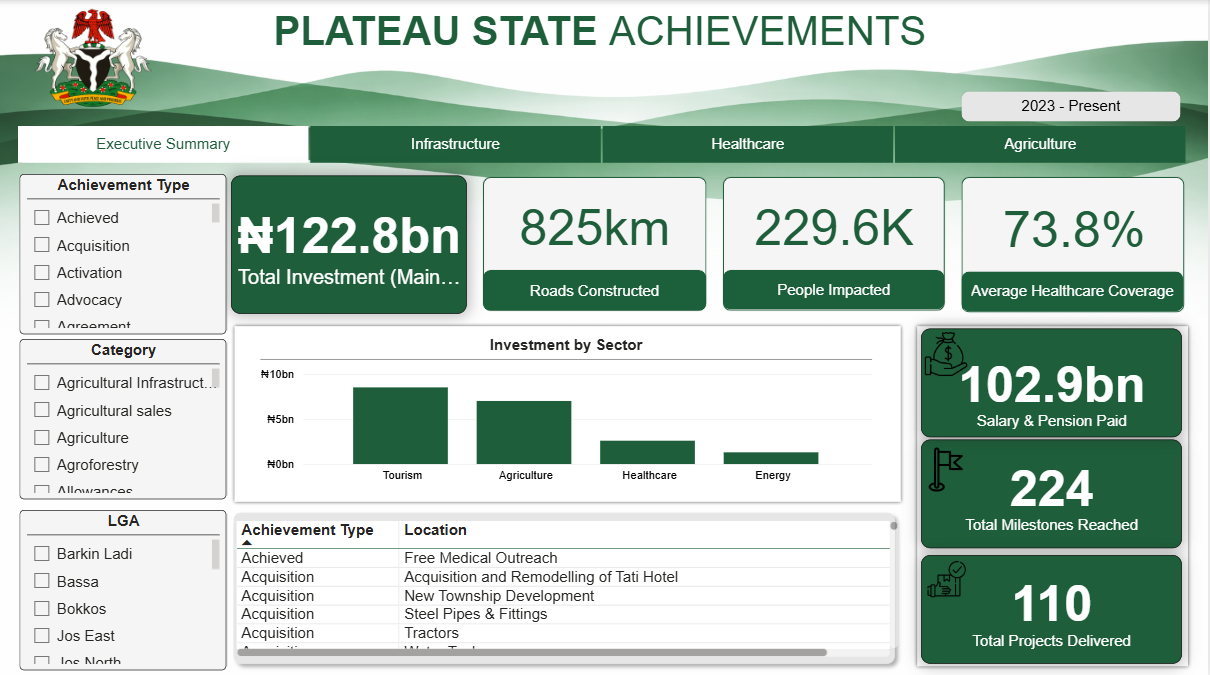

The dashboard page shown, as its layout file describes it:
{"tool":"powerbi","page":{"name":"Executive Summary","canvas":[1280,720],"ordinal":0},"visuals":[{"type":"textbox","box":[211.6,3.2,849.4,62],"z":0},{"type":"image","box":[0,0,197.2,130.4],"z":1000},{"type":"pageNavigator","box":[19.1,133.6,1239.1,39.8],"z":2000},{"type":"slicer","title":"Category","fields":{"Values":["KPI_Main_Dataset.Category"]},"box":[20.7,359.5,219.5,170.2],"z":3000},{"type":"group","id":"g1","title":"Group 2","box":[968.3,341.7,295,368.3],"z":4000},{"type":"group","id":"g2","title":"Group 1","box":[765,185,238.3,146.7],"z":5000},{"type":"textbox","box":[245,186.8,250,146.6],"z":5000,"group":"g4"},{"type":"card","fields":{"Values":["00_Measures.Total Investment"]},"box":[245,185,250,146.6],"z":6000,"group":"g4"},{"type":"group","id":"g3","title":"Group 3","box":[510,185,240,146.7],"z":6000},{"type":"group","id":"g4","title":"Group 4","box":[245,185,250,146.7],"z":7000},{"type":"shape","box":[510,186.8,240,144.9],"z":7000,"group":"g3"},{"type":"textbox","box":[976.7,348.3,276.7,115.3],"z":7000,"group":"g7"},{"type":"textbox","box":[976.7,466.4,276.7,115.3],"z":7000,"group":"g6"},{"type":"textbox","box":[976.7,588.1,276.7,115.3],"z":7000,"group":"g8"},{"type":"group","id":"g5","title":"Group 5","box":[1018.3,186.7,240,146.7],"z":8000},{"type":"shape","box":[765,186.8,238.3,144.9],"z":8000,"group":"g2"},{"type":"shape","box":[1018.3,186.7,239.3,146.7],"z":9000,"group":"g5"},{"type":"group","id":"g6","title":"Group 6","box":[976.7,465,276.7,116.7],"z":9000},{"type":"card","fields":{"Values":["00_Measures.Total Km (Display)"]},"box":[510,185,240,105.5],"z":10000,"group":"g3"},{"type":"shape","box":[968.3,341.7,295,368.3],"z":10000,"group":"g1"},{"type":"shape","box":[245,342,714,194],"z":10000,"group":"g9"},{"type":"group","id":"g7","title":"Group 6","box":[976.7,348.3,276.7,121.7],"z":10000},{"type":"card","fields":{"Values":["00_Measures.Salary & Pension Paid"]},"box":[976.7,355,276.7,115],"z":10000,"group":"g7"},{"type":"card","fields":{"Values":["00_Measures.Total Milestones Reached"]},"box":[976.7,465,276.7,115.3],"z":10000,"group":"g6"},{"type":"card","fields":{"Values":["00_Measures.Total Projects Delivered"]},"box":[976.7,586.7,276.7,115.3],"z":10000,"group":"g8"},{"type":"card","fields":{"Values":["00_Measures.Total People"]},"box":[765,185,238.3,105.5],"z":11000,"group":"g2"},{"type":"columnChart","title":"Investment by Sector","fields":{"Category":["KPI_Main_Dataset.Sector"],"Y":["00_Measures.Total Investment (Main Dataset"]},"box":[256.2,350.8,688.5,167.5],"z":11000,"group":"g9"},{"type":"group","id":"g8","title":"Group 6","box":[976.7,586.7,276.7,116.7],"z":11000},{"type":"card","fields":{"Values":["00_Measures.Average Coverage (Display)"]},"box":[1019.5,187,238.8,106.6],"z":12000,"group":"g5"},{"type":"shape","box":[238.6,534.4,719,178.1],"z":12000},{"type":"shape","box":[1018,95.4,235.4,35],"z":13000},{"type":"shape","box":[510,285.2,240,46.5],"z":13000,"group":"g3"},{"type":"shape","box":[765,285.8,238.1,45],"z":14000,"group":"g2"},{"type":"tableEx","fields":{"Values":["KPI_Main_Dataset.Achievement Type","KPI_Main_Dataset.Location"]},"box":[245,547.2,712.6,154.3],"z":14000},{"type":"slicer","title":"Achievement Type","fields":{"Values":["KPI_Main_Dataset.Achievement Type"]},"box":[20.7,184.5,219.5,170.2],"z":15000},{"type":"shape","box":[1018.3,287,238.5,45.4],"z":15000,"group":"g5"},{"type":"slicer","title":"LGA","fields":{"Values":["KPI_Main_Dataset.LGA "]},"box":[20.7,540.8,219.5,170.2],"z":16000},{"type":"group","id":"g9","title":"Group 2","box":[245,342,714.2,194.1],"z":17000},{"type":"image","box":[951.2,346.8,103.4,57.3],"z":18000},{"type":"image","box":[936.9,469.2,132,57.3],"z":18001},{"type":"image","box":[944.8,588.5,117.7,50.9],"z":18002}]}

Visuals, with their boxes in screenshot pixels (x1, y1, x2, y2), scaled from the page's 1280x720 canvas onto the 1210x675 screenshot:
textbox: <box>200,3,1003,61</box>
image: <box>0,0,186,122</box>
pageNavigator: <box>18,125,1189,163</box>
"Category" slicer: <box>20,337,227,497</box>
"Group 2" group: <box>915,320,1194,666</box>
"Group 1" group: <box>723,173,948,311</box>
textbox: <box>232,175,468,313</box>
card - 00_Measures.Total Investment: <box>232,173,468,311</box>
"Group 3" group: <box>482,173,709,311</box>
"Group 4" group: <box>232,173,468,311</box>
shape: <box>482,175,709,311</box>
textbox: <box>923,327,1185,435</box>
textbox: <box>923,437,1185,545</box>
textbox: <box>923,551,1185,659</box>
"Group 5" group: <box>963,175,1189,313</box>
shape: <box>723,175,948,311</box>
shape: <box>963,175,1189,313</box>
"Group 6" group: <box>923,436,1185,545</box>
card - 00_Measures.Total Km (Display): <box>482,173,709,272</box>
shape: <box>915,320,1194,666</box>
shape: <box>232,321,907,502</box>
"Group 6" group: <box>923,327,1185,441</box>
card - 00_Measures.Salary & Pension Paid: <box>923,333,1185,441</box>
card - 00_Measures.Total Milestones Reached: <box>923,436,1185,544</box>
card - 00_Measures.Total Projects Delivered: <box>923,550,1185,658</box>
card - 00_Measures.Total People: <box>723,173,948,272</box>
"Investment by Sector" columnChart: <box>242,329,893,486</box>
"Group 6" group: <box>923,550,1185,659</box>
card - 00_Measures.Average Coverage (Display): <box>964,175,1189,275</box>
shape: <box>226,501,905,668</box>
shape: <box>962,89,1185,122</box>
shape: <box>482,267,709,311</box>
shape: <box>723,268,948,310</box>
tableEx - KPI_Main_Dataset.Achievement Type x KPI_Main_Dataset.Location: <box>232,513,905,658</box>
"Achievement Type" slicer: <box>20,173,227,333</box>
shape: <box>963,269,1188,312</box>
"LGA" slicer: <box>20,507,227,667</box>
"Group 2" group: <box>232,321,907,503</box>
image: <box>899,325,997,379</box>
image: <box>886,440,1010,494</box>
image: <box>893,552,1004,599</box>
